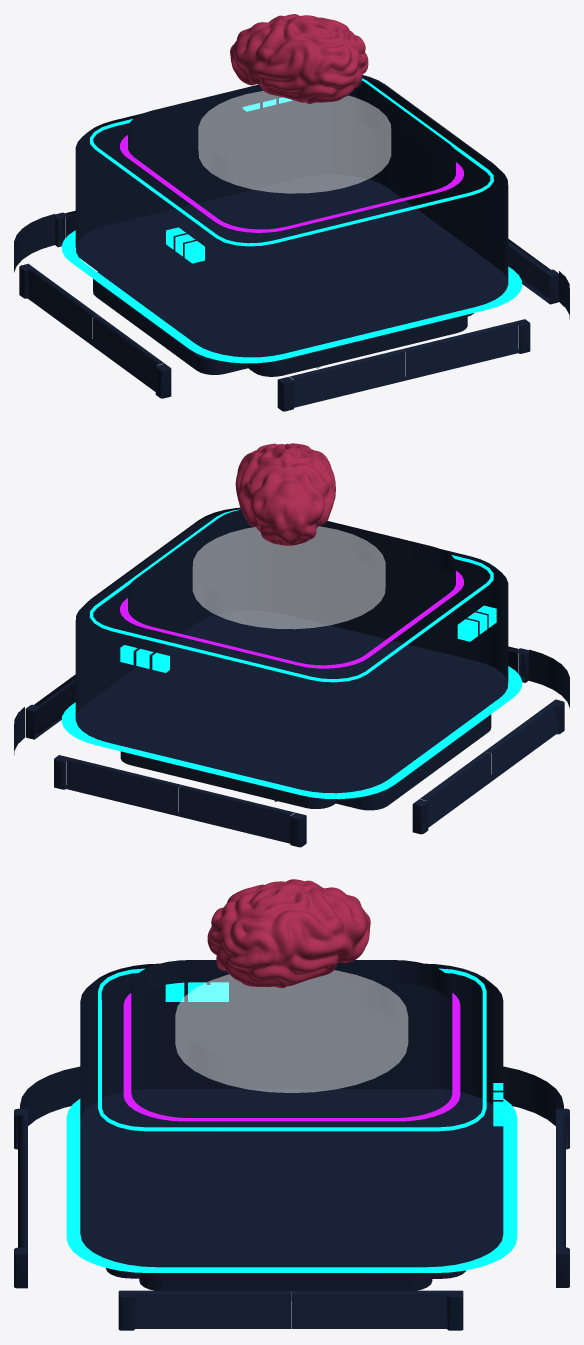
The model's file is Fin_lab_platform5.glb.
The picture shows the model from 3 angles, top to bottom: view 1: azimuth 30°, elevation 25°; view 2: azimuth 150°, elevation 25°; view 3: azimuth 270°, elevation 25°; orthographic projection. The views are drawn at different scales.
Parts seen in each view (by area): view 1: Cube.003, Plane.005, Artificial_Intellegence, Gate.001, Cube.004, Cube, Gate, Sub_platform.001, Sub_platform, Plane.003, Gate.002, Gate.003; view 2: Cube.003, Plane.005, Gate.003, Artificial_Intellegence, Cube.004, Cube, Gate, Sub_platform.003, Sub_platform, Plane.003, Gate.002, Gate.001; view 3: Cube.003, Plane.005, Artificial_Intellegence, Gate.002, Cube, Cube.004, Sub_platform.002, Plane.003, Gate.001, Gate.003.
Part boxes in pixels (x1,y1,x2,y2): Cube.003: [75, 75, 508, 357]; Plane.005: [198, 91, 390, 193]; Artificial_Intellegence: [230, 14, 368, 103]; Gate.001: [277, 319, 530, 411]; Cube.004: [120, 80, 463, 232]; Cube: [14, 214, 569, 363]; Gate: [19, 263, 171, 398]; Sub_platform.001: [248, 314, 467, 376]; Sub_platform: [93, 272, 248, 374]; Plane.003: [90, 78, 493, 246]; Gate.002: [508, 239, 558, 304]; Gate.003: [55, 210, 75, 247]; Cube.003: [75, 507, 508, 793]; Plane.005: [193, 526, 385, 628]; Gate.003: [54, 755, 306, 847]; Artificial_Intellegence: [235, 443, 335, 545]; Cube.004: [120, 509, 463, 668]; Cube: [14, 649, 569, 799]; Gate: [412, 699, 564, 834]; Sub_platform.003: [120, 751, 335, 808]; Sub_platform: [335, 708, 491, 810]; Plane.003: [89, 509, 493, 682]; Gate.002: [25, 674, 75, 739]; Gate.001: [508, 646, 528, 682]; Cube.003: [80, 963, 503, 1267]; Plane.005: [175, 970, 407, 1092]; Artificial_Intellegence: [207, 879, 370, 988]; Gate.002: [118, 1290, 463, 1330]; Cube: [20, 1066, 563, 1272]; Cube.004: [123, 960, 460, 1121]; Sub_platform.002: [139, 1272, 432, 1291]; Plane.003: [98, 968, 486, 1131]; Gate.001: [14, 1108, 27, 1288]; Gate.003: [556, 1108, 569, 1287].
Bounding box in the file's own units: 7.17 × 5.75 × 7.19.
